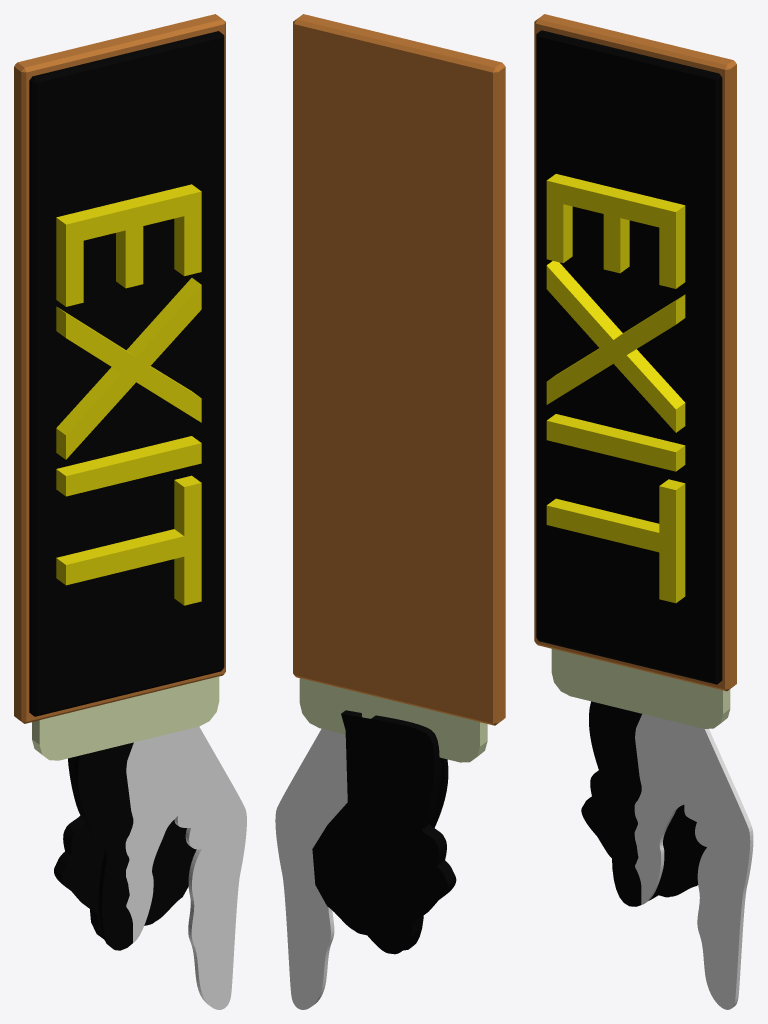
The model's file is ExitSign.fbx.
The picture shows the model from 3 angles, left to right: view 1: azimuth 30°, elevation 25°; view 2: azimuth 150°, elevation 25°; view 3: azimuth 330°, elevation 25°; orthographic projection. The views are drawn at different scales.
Visible parts, largest first — view 1: Cube.005; view 2: Cube.005; view 3: Cube.005.
Boxes of the visible parts, box(x1,y1,x2,y2) form: Cube.005: box(14, 14, 246, 1009); Cube.005: box(275, 14, 505, 1009); Cube.005: box(534, 14, 753, 1009).
Bounding box in the file's own units: 0.4222 × 1.77 × 0.0918.
